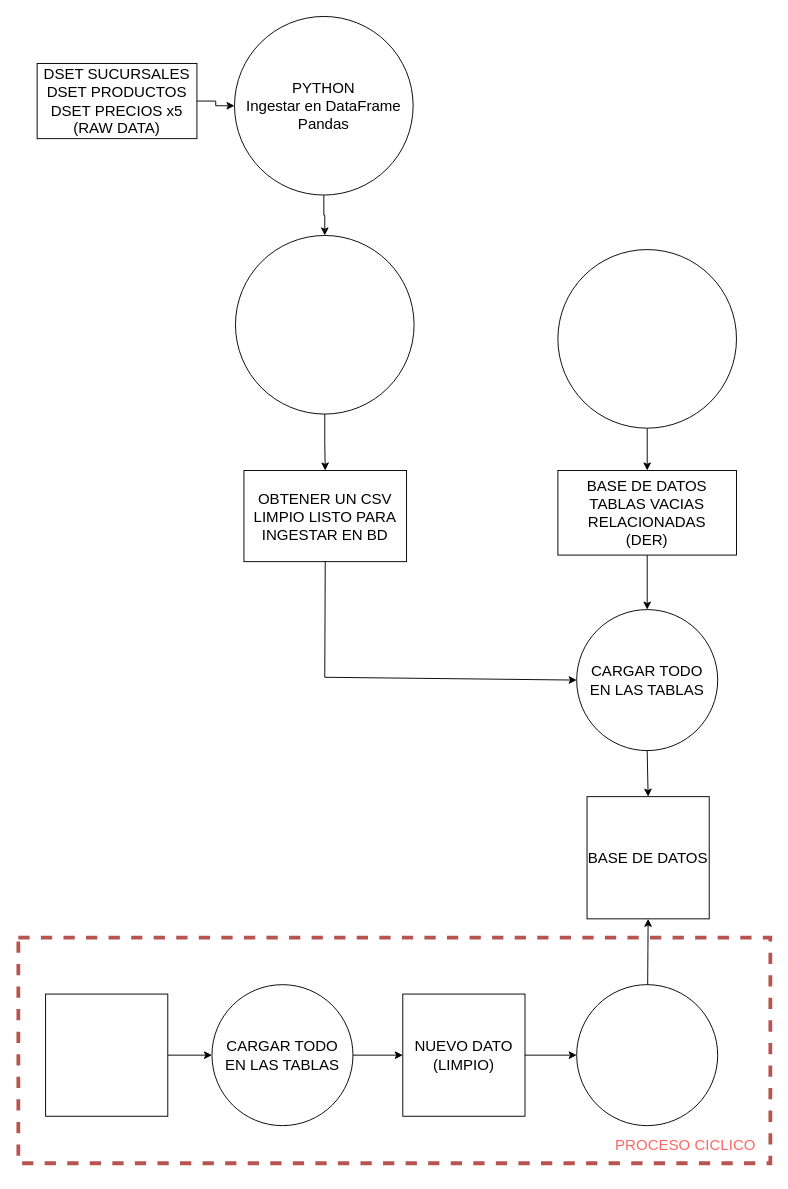
Some shapes in this 788 by 1189 pixel diagram are drawn without their labels. The centre of each missing label's shape, as x and y in pixels:
"ANALIZAR TODAS LAS COLUMNAS Y REALIZAR TODAS LAS TRANSFORMACIONES NECESARIAS" belongs at pixel 324 324.
"CARGAR EN LA TABLA EN FORMA INCREMENTAL" belongs at pixel 647 1055.
"MYSQL CREAR BASE DE DATOS CREAR TABLAS" belongs at pixel 646 338.
"NUEVO DATO (RAW)" belongs at pixel 106 1054.
